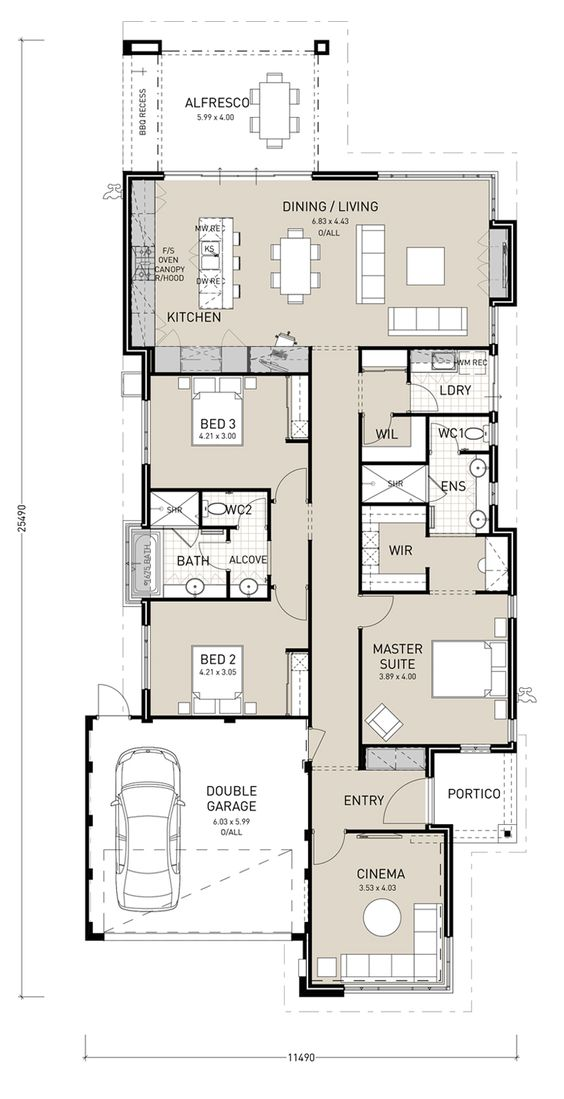door: (382, 777, 423, 828), (361, 594, 397, 628), (94, 681, 130, 715), (311, 834, 347, 868), (276, 464, 309, 498), (362, 417, 396, 448), (428, 420, 462, 451), (233, 496, 267, 527), (194, 540, 228, 571), (274, 589, 308, 620), (413, 381, 439, 412)
room: (358, 591, 518, 750), (142, 372, 313, 492), (143, 598, 311, 719), (140, 488, 272, 602)
